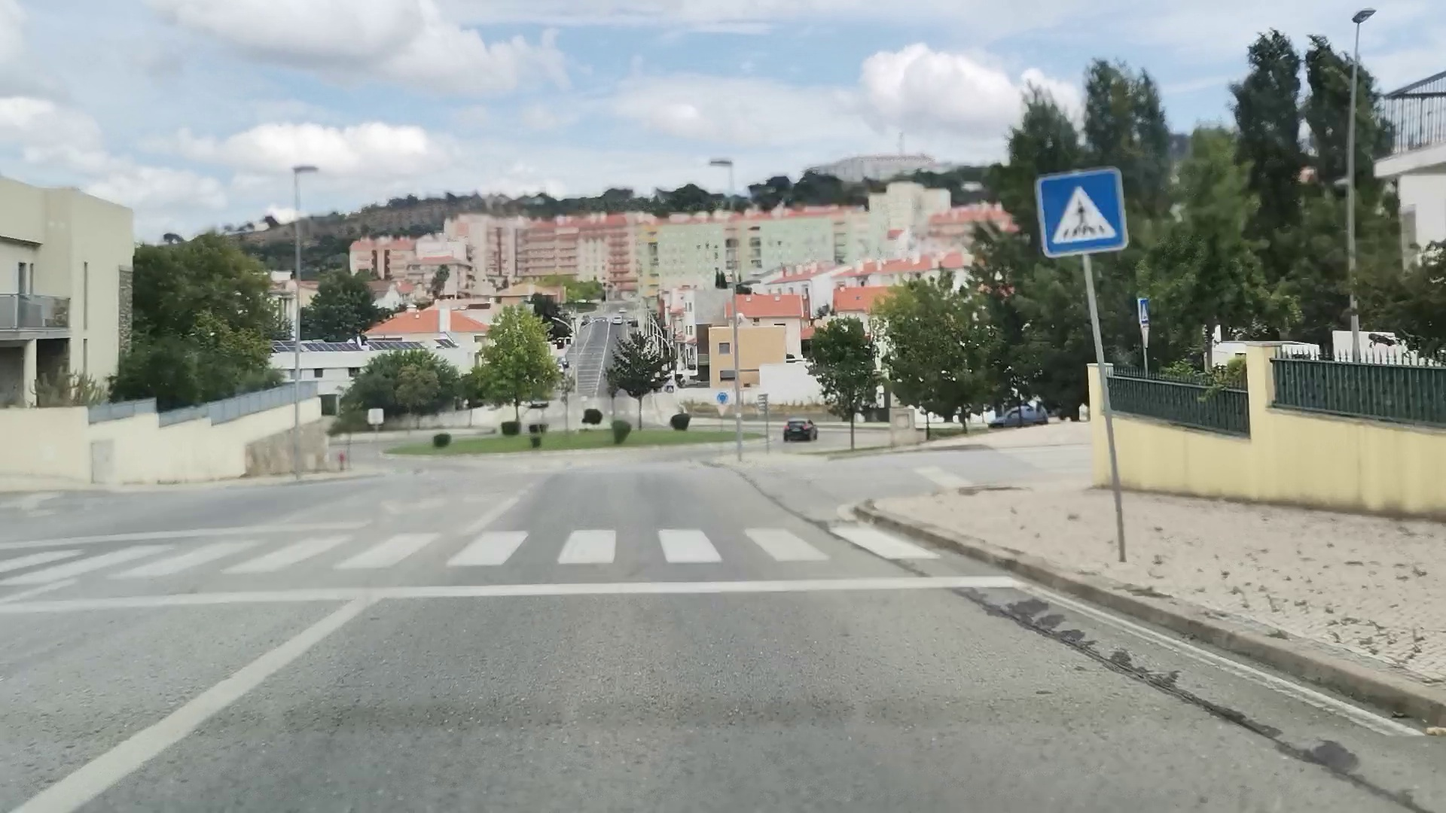Stairs: (0, 526, 948, 587)
